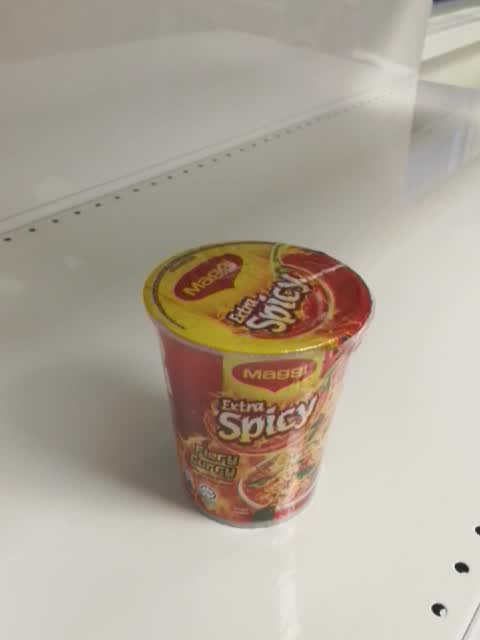maggi: (141, 239, 375, 530)
